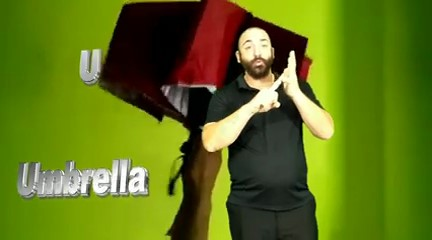U: (250, 47, 309, 117)
